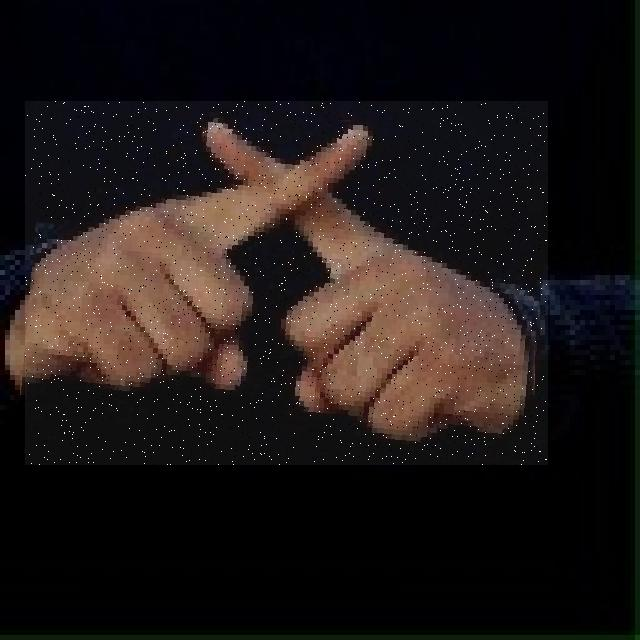X: (25, 101, 548, 465)
